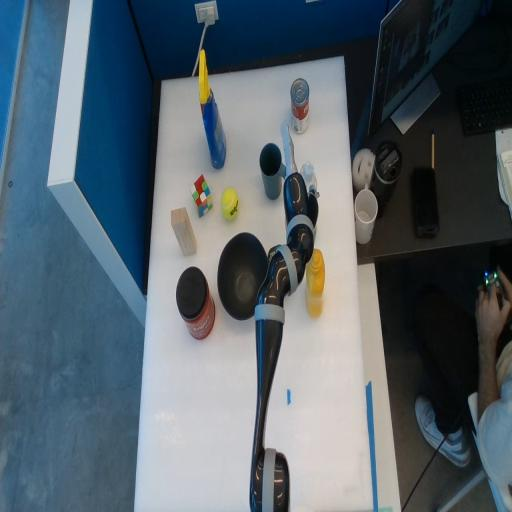bowl: (218, 233, 269, 319)
cleanser: (300, 161, 317, 241)
coffee_can: (176, 267, 215, 339)
jaco: (280, 122, 318, 233)
meat_can: (268, 245, 290, 299)
mug: (259, 143, 290, 199)
mustard_bottle: (306, 249, 325, 317)
rubik: (190, 174, 212, 217)
soup_can: (290, 78, 308, 134)
tennis_ball: (221, 188, 238, 219)
windex: (198, 49, 226, 168)
wooden_block: (171, 208, 196, 255)
workspace: (134, 58, 372, 510)
